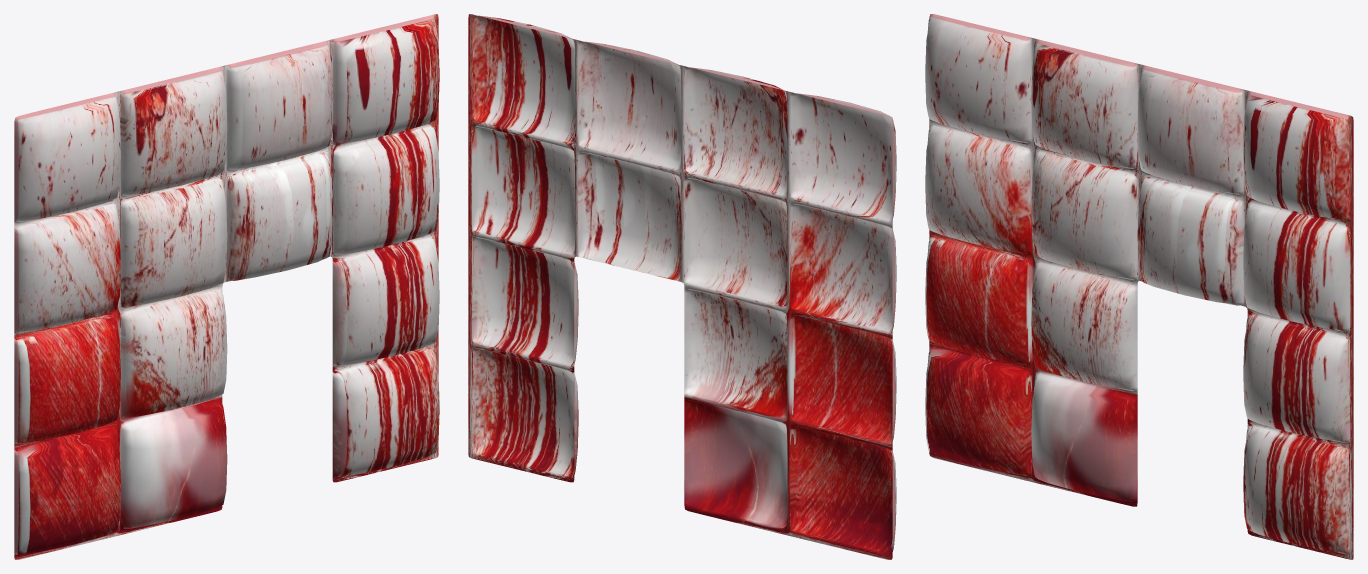
File: Marco_01.fbx
The picture shows the model from 3 angles, left to right: view 1: azimuth 30°, elevation 25°; view 2: azimuth 150°, elevation 25°; view 3: azimuth 330°, elevation 25°; orthographic projection.
Parts seen in each view (by area): view 1: Plane.001; view 2: Plane.001; view 3: Plane.001.
Boxes of the visible parts, x1,y1,x2,y2 form: Plane.001: (14, 14, 439, 559); Plane.001: (468, 14, 896, 559); Plane.001: (925, 14, 1353, 559).
Bounding box in the file's own units: 600 × 600 × 39.87.
